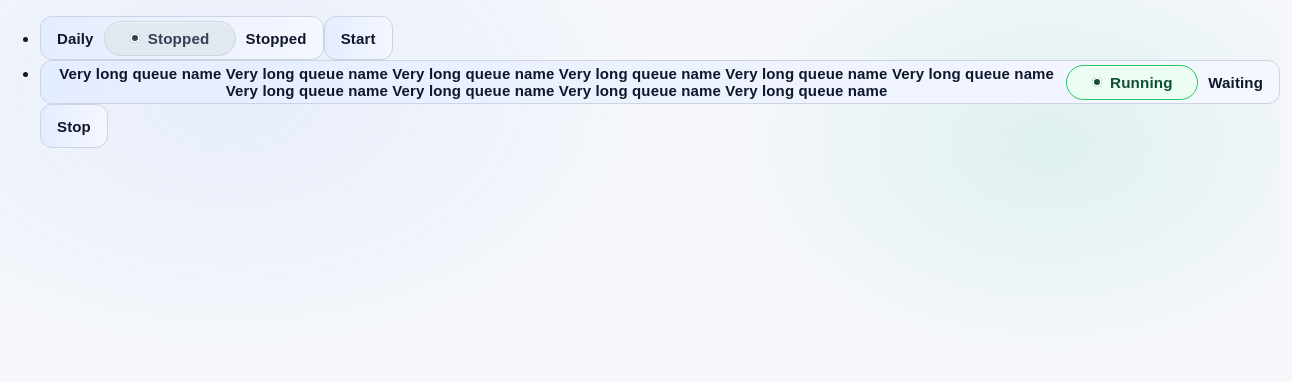
Scenario: PhoneQueuesView detail › shows read-only switches when no template is linked
The width and height of the screenshot is (1292, 382).
Click the button with aria-label "Open Daily". click: [182, 38]
box: [40,16,324,60]
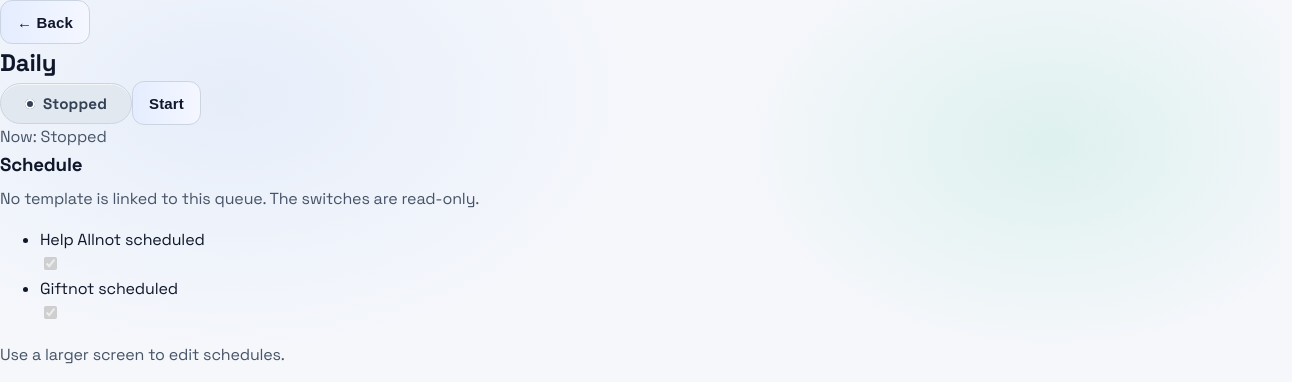
Expected: the element with test id "phone-queue-detail" is shown, [0,0,479,365]
Expected: the switch named "Help All" is disabled, [44,257,57,270]
Expected: the text "No template is linked" is shown, [0,188,479,209]
